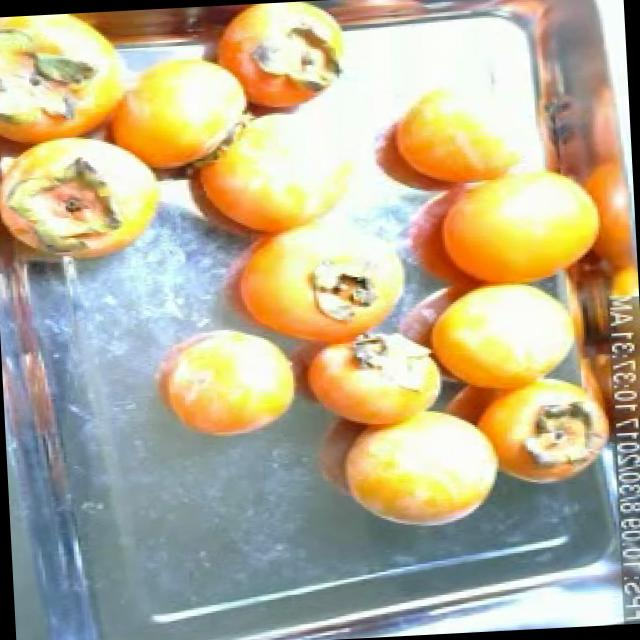Fruit: (77, 43, 266, 188), (330, 394, 512, 542), (404, 266, 594, 399), (141, 307, 312, 451)
